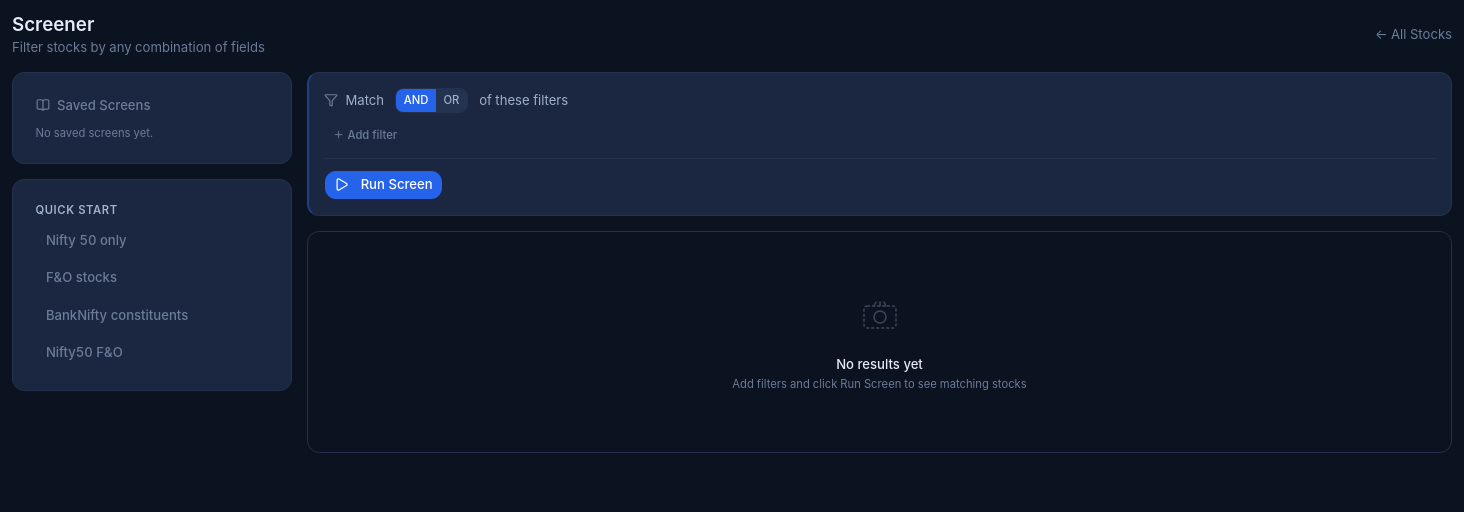
ScreenerPage › can add a filter row
Click the button "Add filter" at (365, 135), box 324,124 -> 406,146
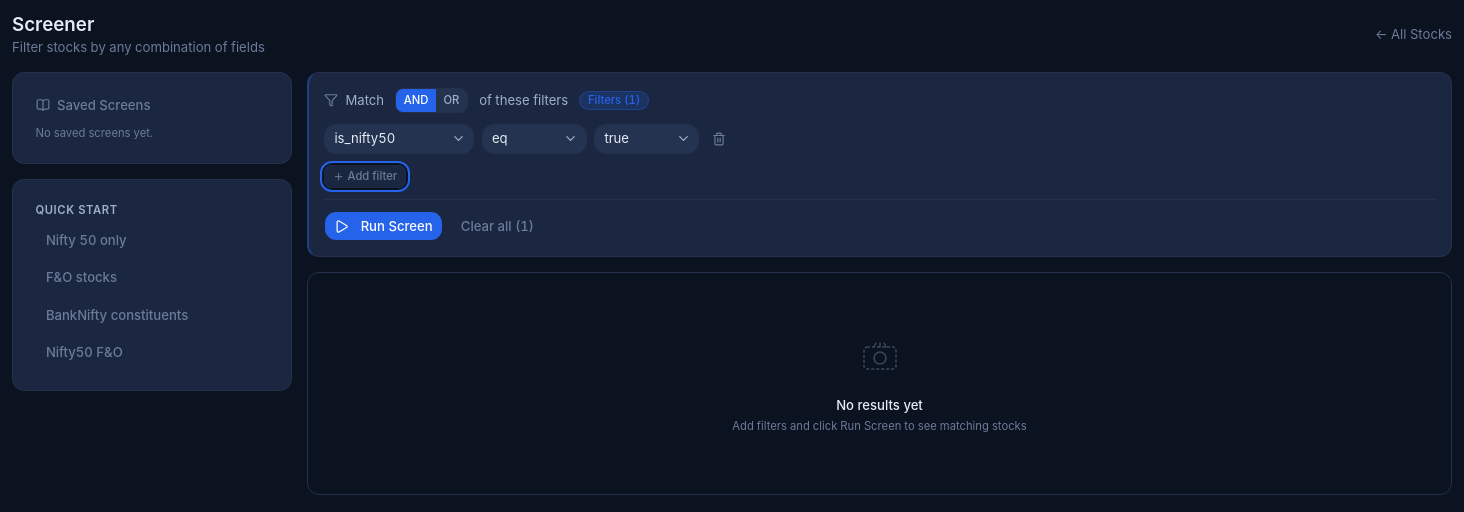
Check: the dropdown labelled "is_nifty50 ▼" is shown, box 324,124 -> 474,154
